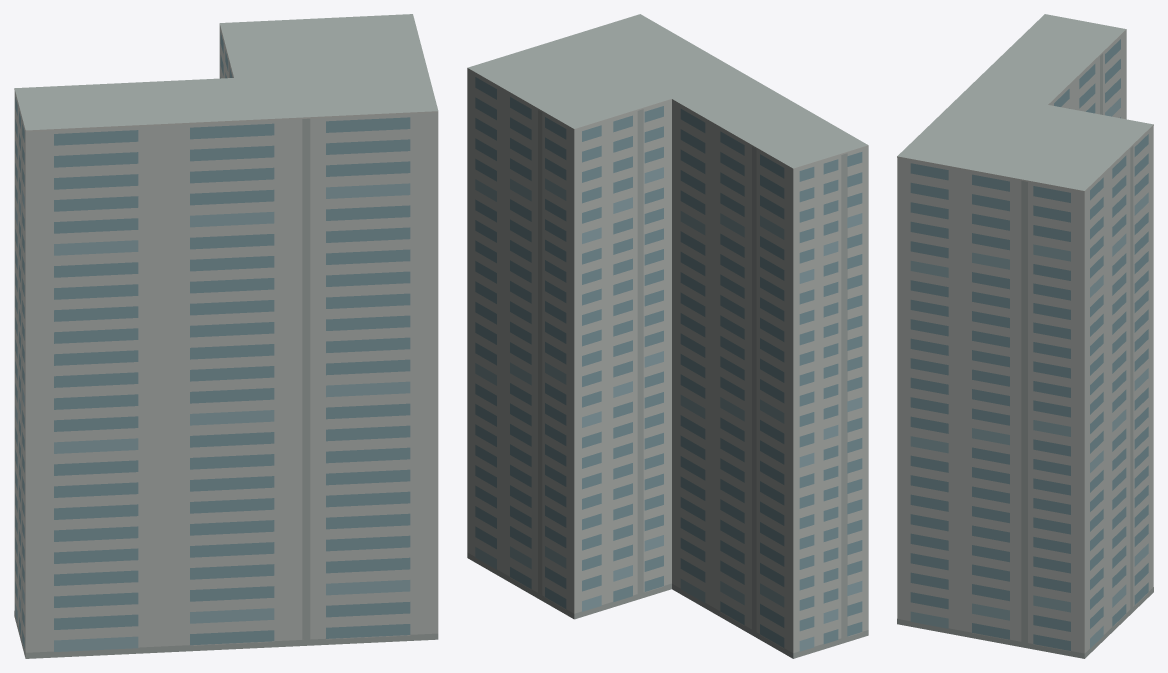
Rendered from residential-5493e67c-0bb6-4ea1-967c-45f4793dd7ed.glb.
3 renders of one model, left to right at view 1: azimuth 30°, elevation 25°; view 2: azimuth 150°, elevation 25°; view 3: azimuth 270°, elevation 25°, orthographic. The views are drawn at different scales.
Parts seen in each view (by area): view 1: residential-5493e67c-0bb6-4ea1-967c-45f4793dd7ed.tmp; view 2: residential-5493e67c-0bb6-4ea1-967c-45f4793dd7ed.tmp; view 3: residential-5493e67c-0bb6-4ea1-967c-45f4793dd7ed.tmp.
Boxes of the visible parts, bbox=[...] form: residential-5493e67c-0bb6-4ea1-967c-45f4793dd7ed.tmp: bbox=[14, 14, 438, 658]; residential-5493e67c-0bb6-4ea1-967c-45f4793dd7ed.tmp: bbox=[467, 14, 868, 658]; residential-5493e67c-0bb6-4ea1-967c-45f4793dd7ed.tmp: bbox=[897, 14, 1153, 658].
Size of the model in its own units: 69 by 85 by 42.27.
